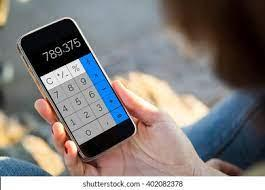Calculator: (36, 33, 132, 144)
